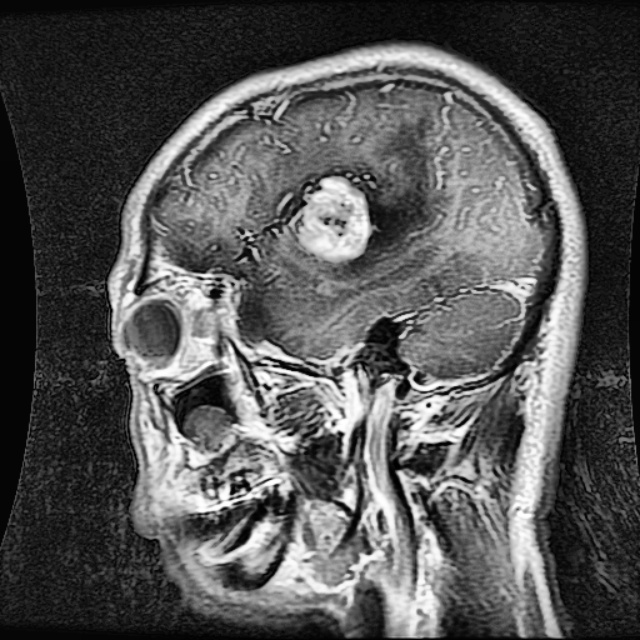Meningioma: (299, 175, 367, 255)
